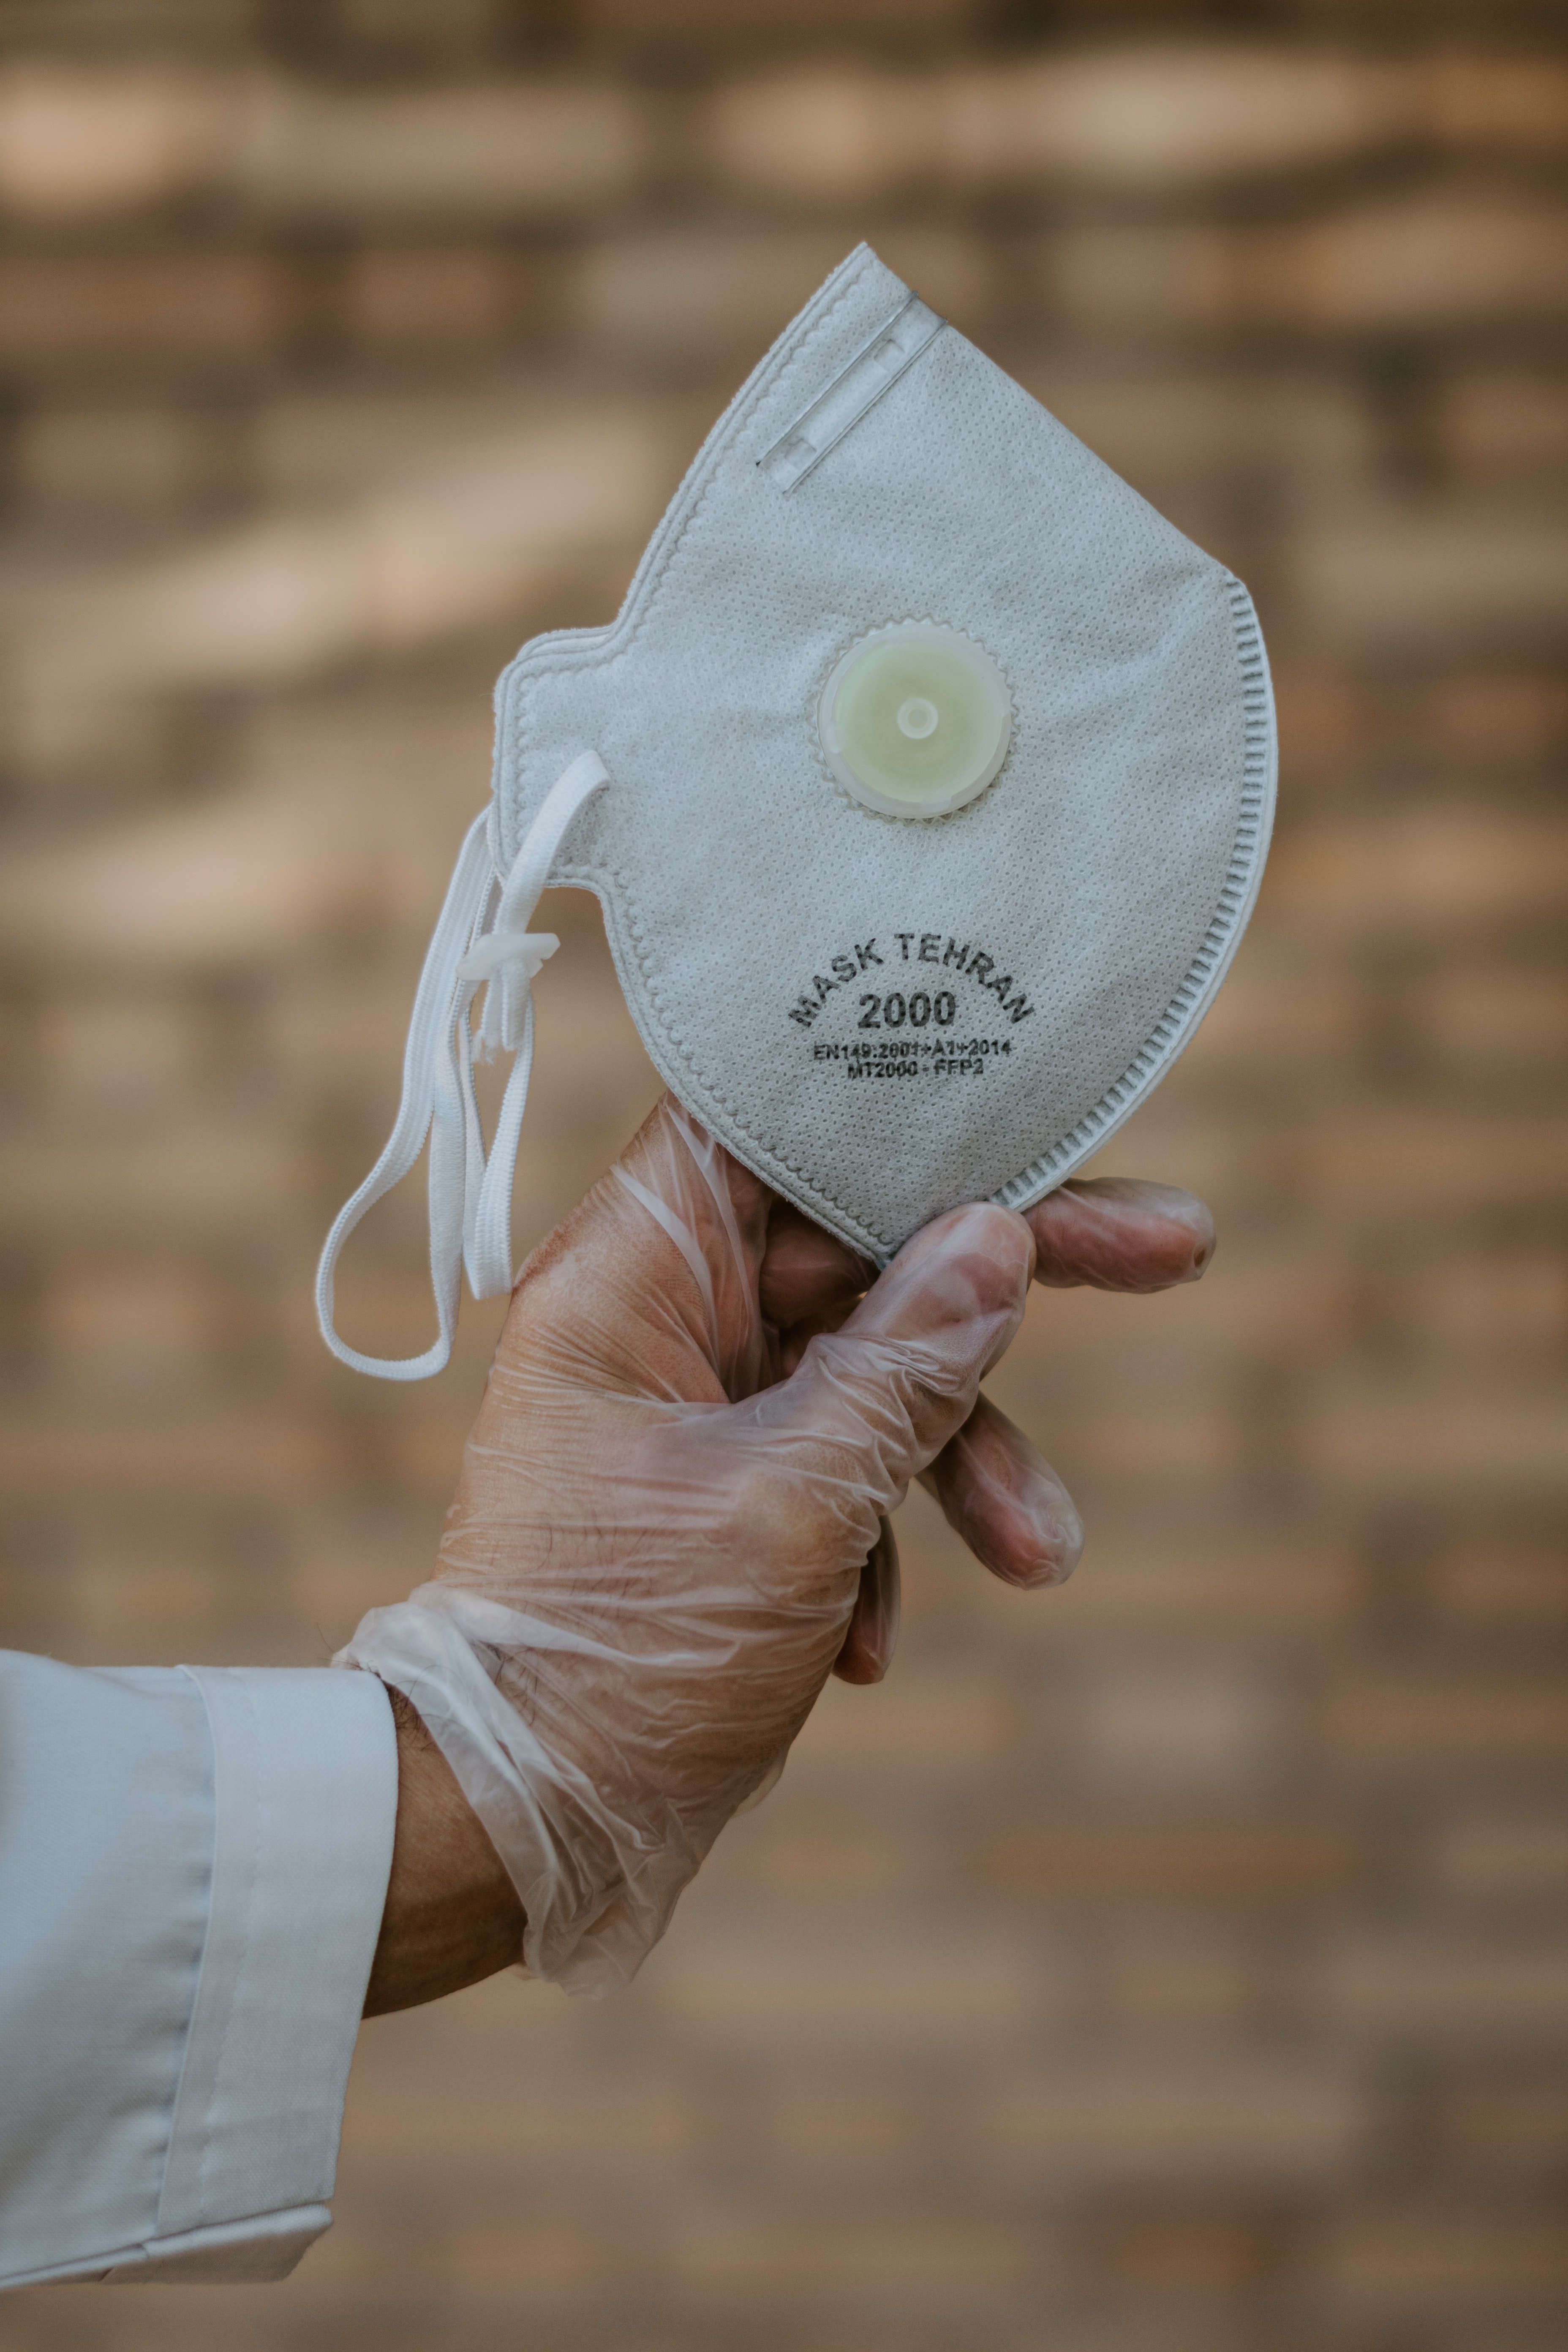mask: (280, 201, 1318, 1272)
